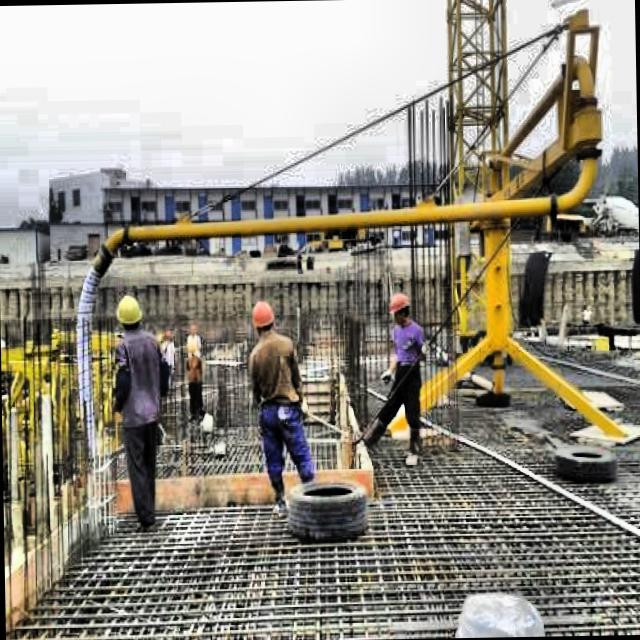helmet: (382, 285, 417, 330), (112, 288, 145, 335), (246, 294, 278, 334)
